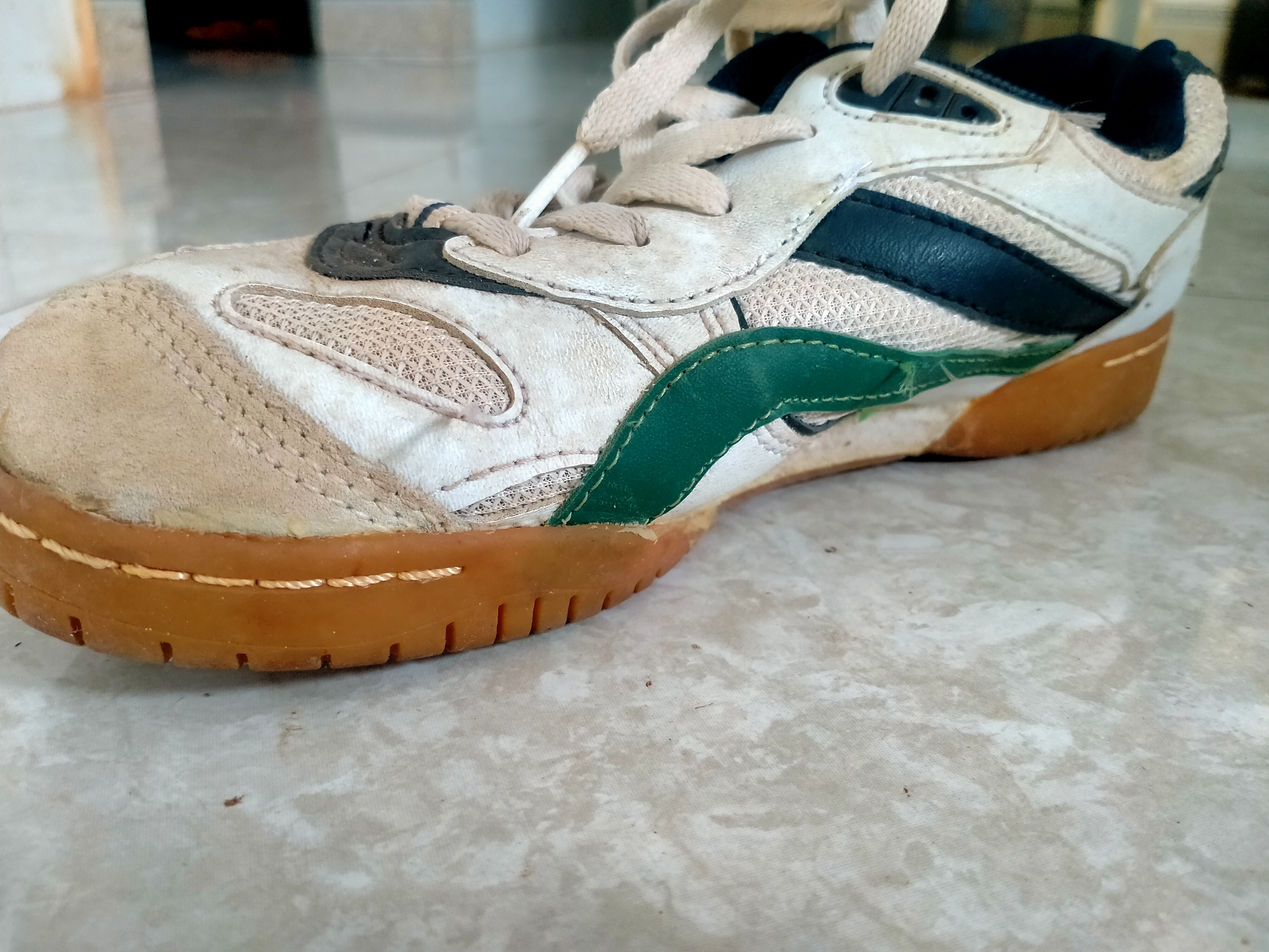broken: (893, 352, 959, 383), (837, 160, 873, 195)
